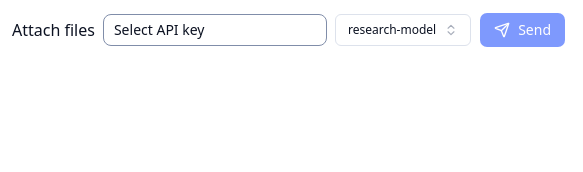
Test: Playground key identity and selection › loaded keys stay unselected until explicit choice and can be explicitly cleared
Check: the dropdown named "API key" shows "Select API key", box [103, 14, 327, 46]
Check: the button "Send" is disabled, box [479, 12, 566, 48]
Step 1. Press Tab
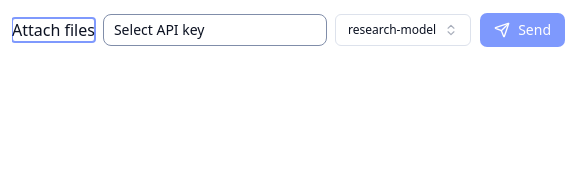
Step 2. Press Tab
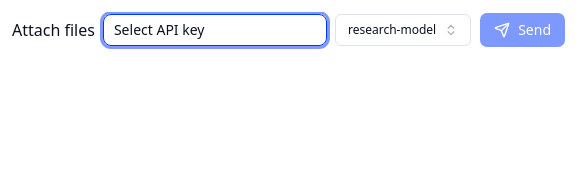
Step 3. Select "International research workspace · 生产环境 · 本番環境 · primary · secondary · internati" in the dropdown named "API key" → (215, 30), box [103, 14, 327, 46]
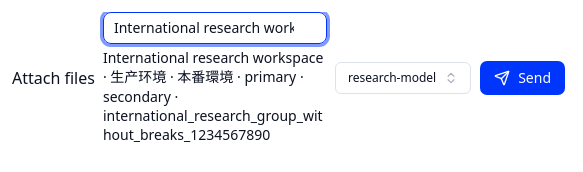
Check: the button "Send" is enabled, box [479, 60, 566, 96]
Step 4. Select "Select API key" in the dropdown named "API key" → (215, 28), box [103, 12, 327, 44]
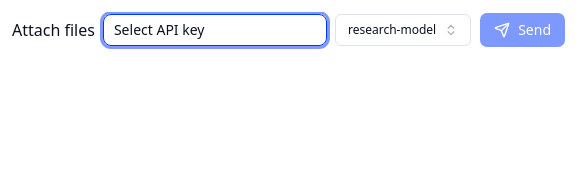
Check: the button "Send" is disabled, box [479, 12, 566, 48]
